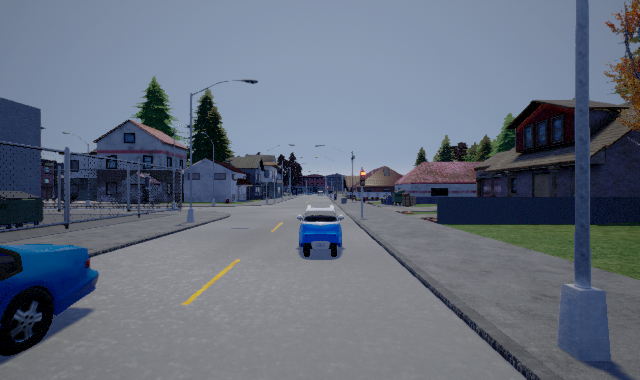traffic_light: (359, 169, 365, 183)
vehicle: (1, 244, 99, 356), (297, 209, 345, 257)
